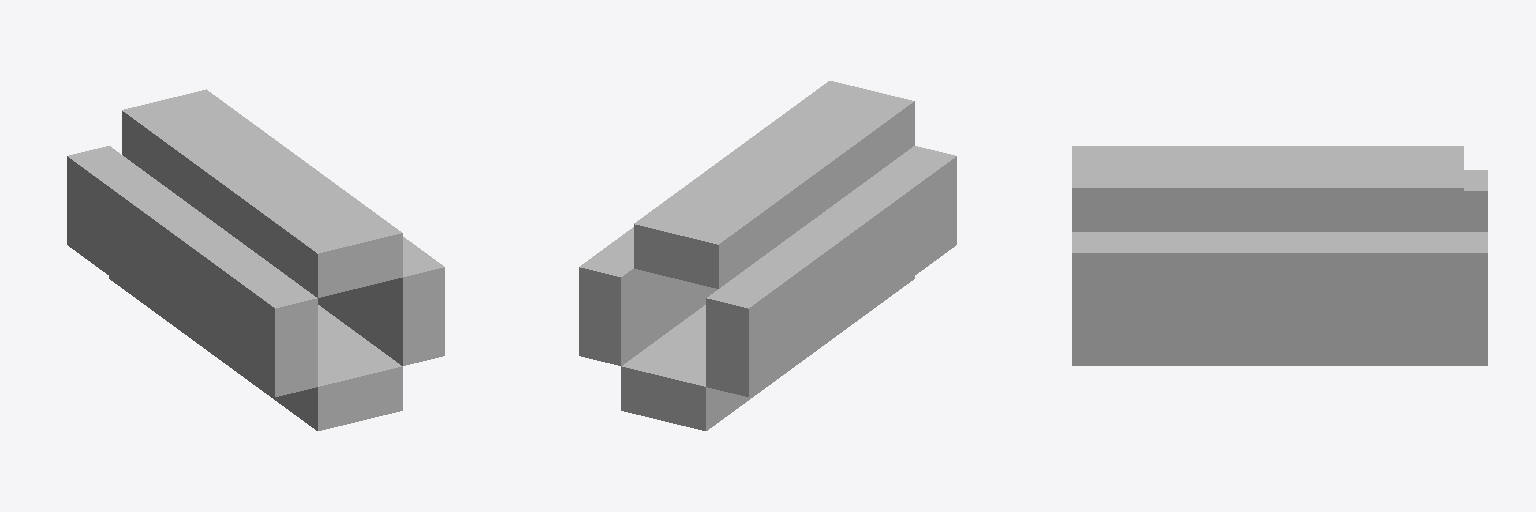
The model's file is muzzle.obj.
3 renders of one model, left to right at view 1: azimuth 30°, elevation 25°; view 2: azimuth 150°, elevation 25°; view 3: azimuth 270°, elevation 25°, orthographic.
Parts seen in each view (by area): view 1: object 1; view 2: object 1; view 3: object 1.
Boxes of the visible parts, <box> form: object 1: <box>67,89,444,430</box>; object 1: <box>579,81,956,430</box>; object 1: <box>1072,146,1487,365</box>.
Bounding box in the file's own units: 0.8 × 0.8 × 1.7.